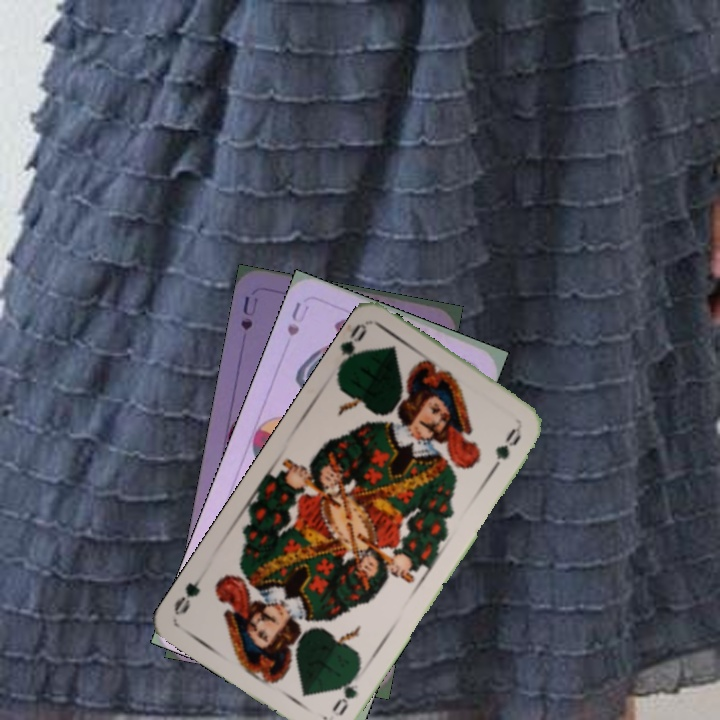GO: (334, 320, 370, 376), (328, 666, 362, 719)
SU: (283, 297, 312, 339), (236, 292, 261, 333)
